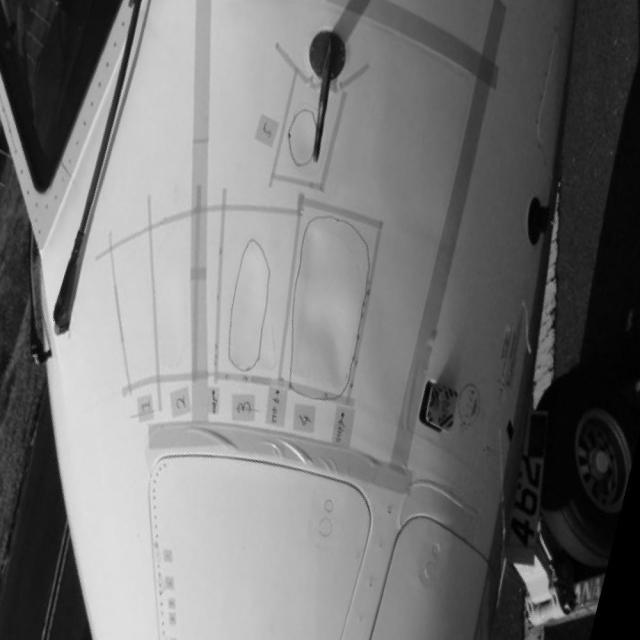dent: (301, 309, 342, 391), (307, 232, 330, 279)
